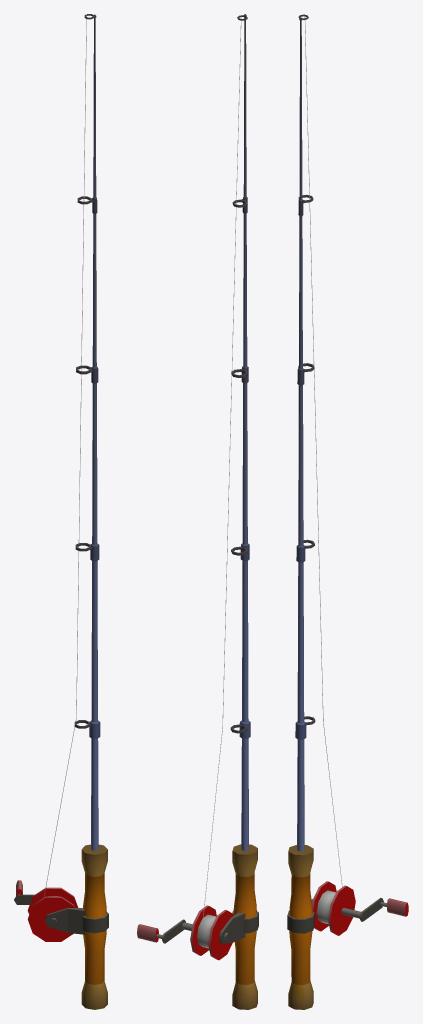
Rendered from Fishing_Rod.fbx.
The picture shows the model from 3 angles, left to right: view 1: azimuth 90°, elevation 25°; view 2: azimuth 150°, elevation 25°; view 3: azimuth 330°, elevation 25°; orthographic projection.
Parts seen in each view (by area): view 1: Fishing_Rod; view 2: Fishing_Rod; view 3: Fishing_Rod.
Part boxes in pixels (x1,y1,x2,y2): Fishing_Rod: [14, 14, 108, 1009]; Fishing_Rod: [137, 14, 258, 1009]; Fishing_Rod: [287, 14, 408, 1009].
Bounding box in the file's own units: 18.86 × 221 × 19.16.
